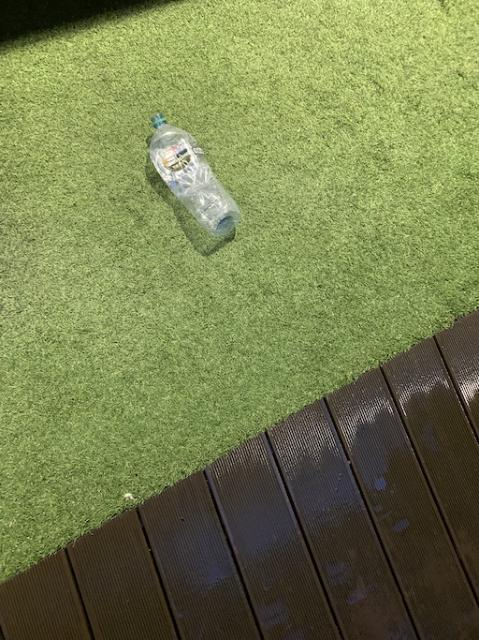plastic: (148, 113, 239, 234)
